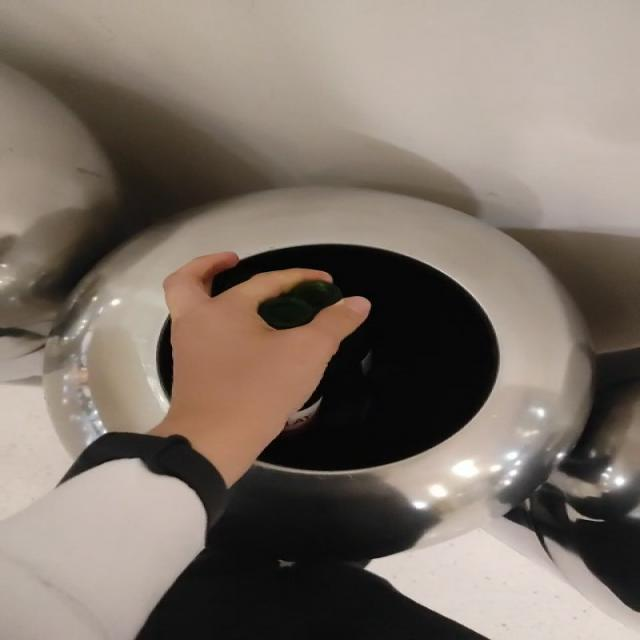glass: (257, 282, 343, 330), (327, 332, 373, 376), (285, 393, 323, 431)
